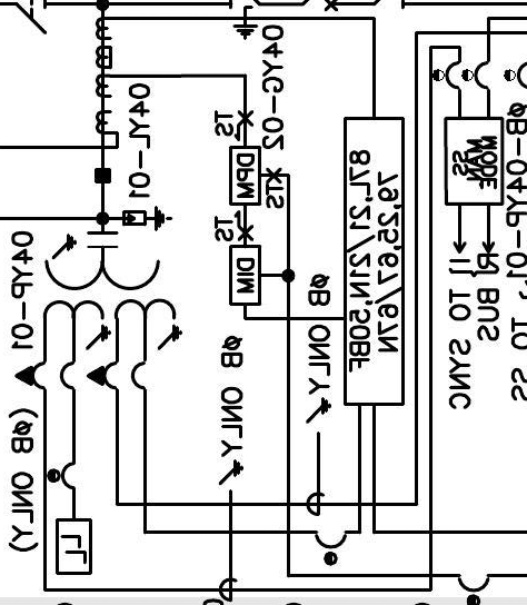115_cvt_1p: (14, 230, 184, 392)
115_la: (122, 205, 173, 232)
DIM: (229, 245, 262, 306)
DPM: (229, 145, 262, 206)
LL: (56, 518, 93, 575)
ss_man_mode: (443, 116, 505, 206)
